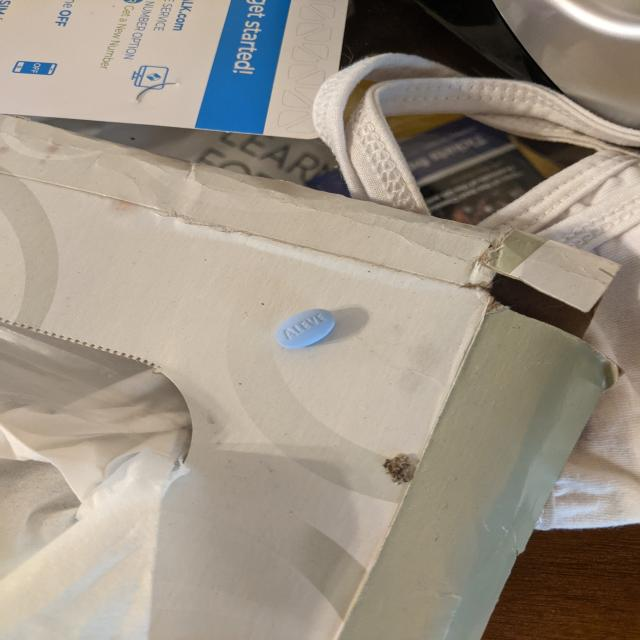non-organic waste: (274, 308, 336, 349)
